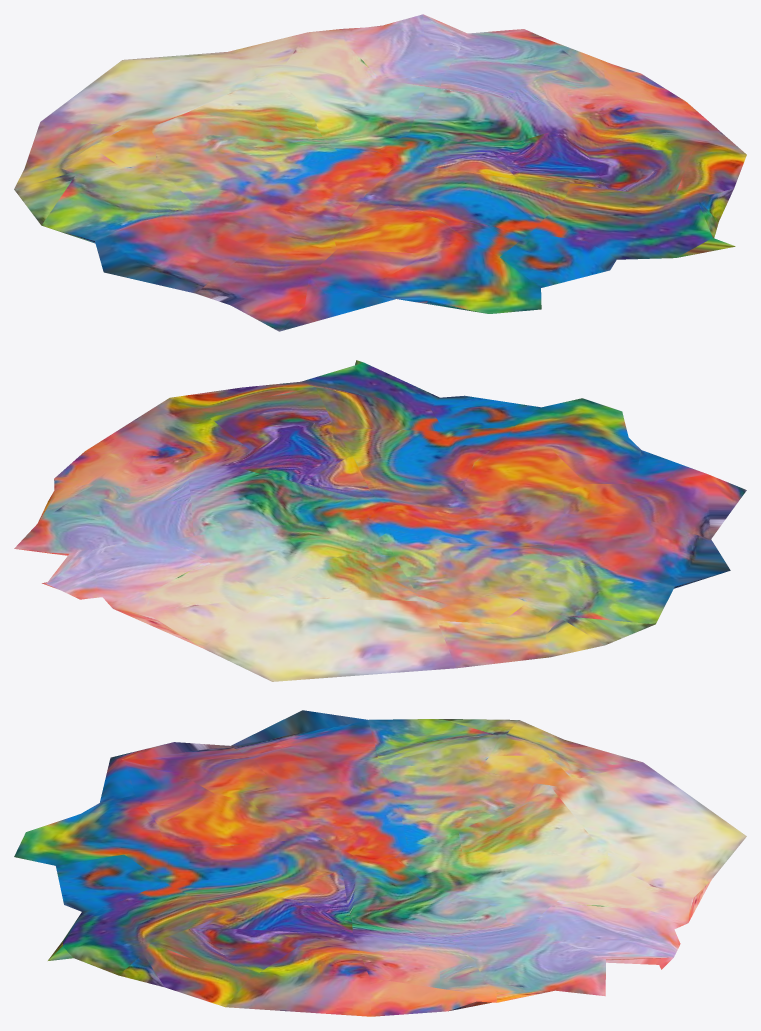
Rendered from poca_tinta.glb.
The picture shows the model from 3 angles, top to bottom: view 1: azimuth 30°, elevation 25°; view 2: azimuth 150°, elevation 25°; view 3: azimuth 270°, elevation 25°; orthographic projection.
Parts seen in each view (by area): view 1: tripo_node_c7ac908a-411b-459a-baaf-bb3b9b899cee; view 2: tripo_node_c7ac908a-411b-459a-baaf-bb3b9b899cee; view 3: tripo_node_c7ac908a-411b-459a-baaf-bb3b9b899cee.
Boxes of the visible parts, x1=… form: tripo_node_c7ac908a-411b-459a-baaf-bb3b9b899cee: x1=14, y1=14, x2=746, y2=331; tripo_node_c7ac908a-411b-459a-baaf-bb3b9b899cee: x1=14, y1=360, x2=746, y2=681; tripo_node_c7ac908a-411b-459a-baaf-bb3b9b899cee: x1=14, y1=710, x2=746, y2=1016.
Bounding box in the file's own units: 0.9472 × 0.0353 × 0.973.
1 material, 1 textured.
